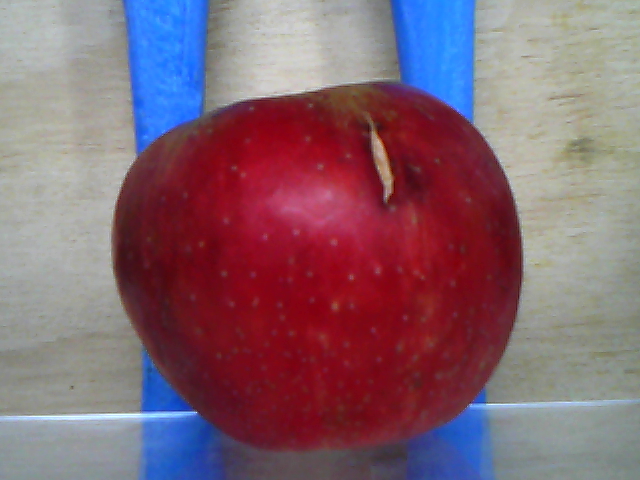cut: (361, 110, 397, 206)
